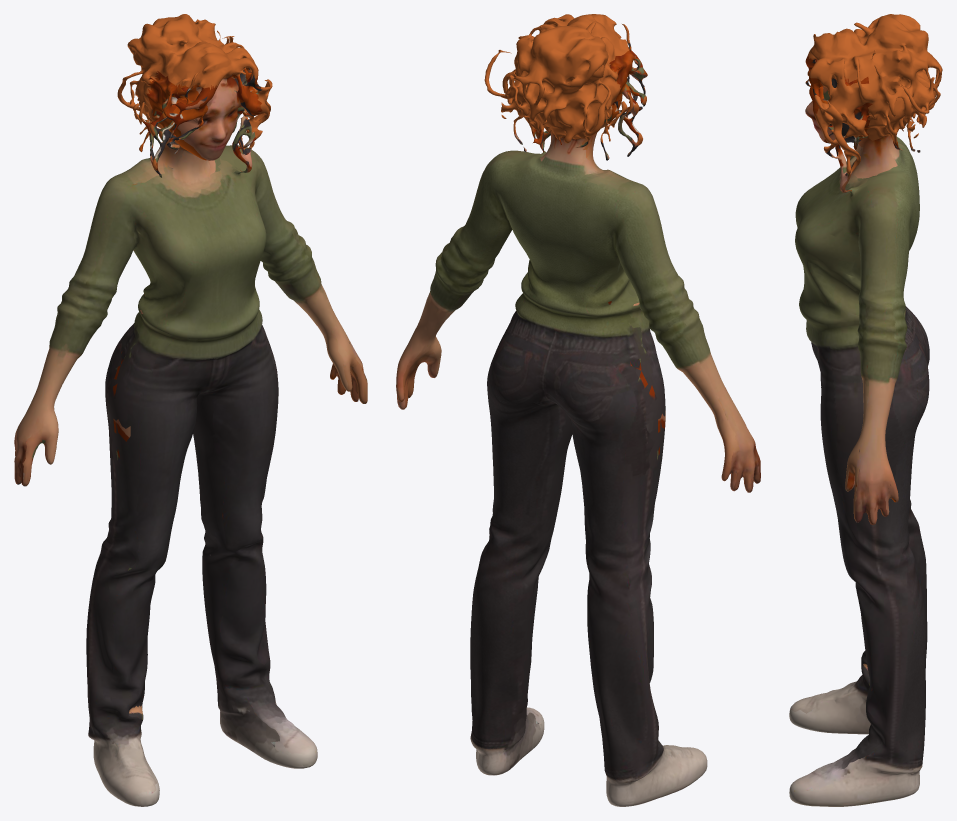
The model's file is mira-review-v2.glb.
The picture shows the model from 3 angles, left to right: view 1: azimuth 30°, elevation 25°; view 2: azimuth 150°, elevation 25°; view 3: azimuth 270°, elevation 25°; orthographic projection. The views are drawn at different scales.
Parts seen in each view (by area): view 1: Mira_Review; view 2: Mira_Review; view 3: Mira_Review.
Boxes of the visible parts, x1,y1,x2,y2 form: Mira_Review: (14,14,367,806); Mira_Review: (396,14,760,806); Mira_Review: (789,14,942,806).
Bounding box in the file's own units: 0.8473 × 1.72 × 0.3227.
Materials: 2 (1 with a texture image).
